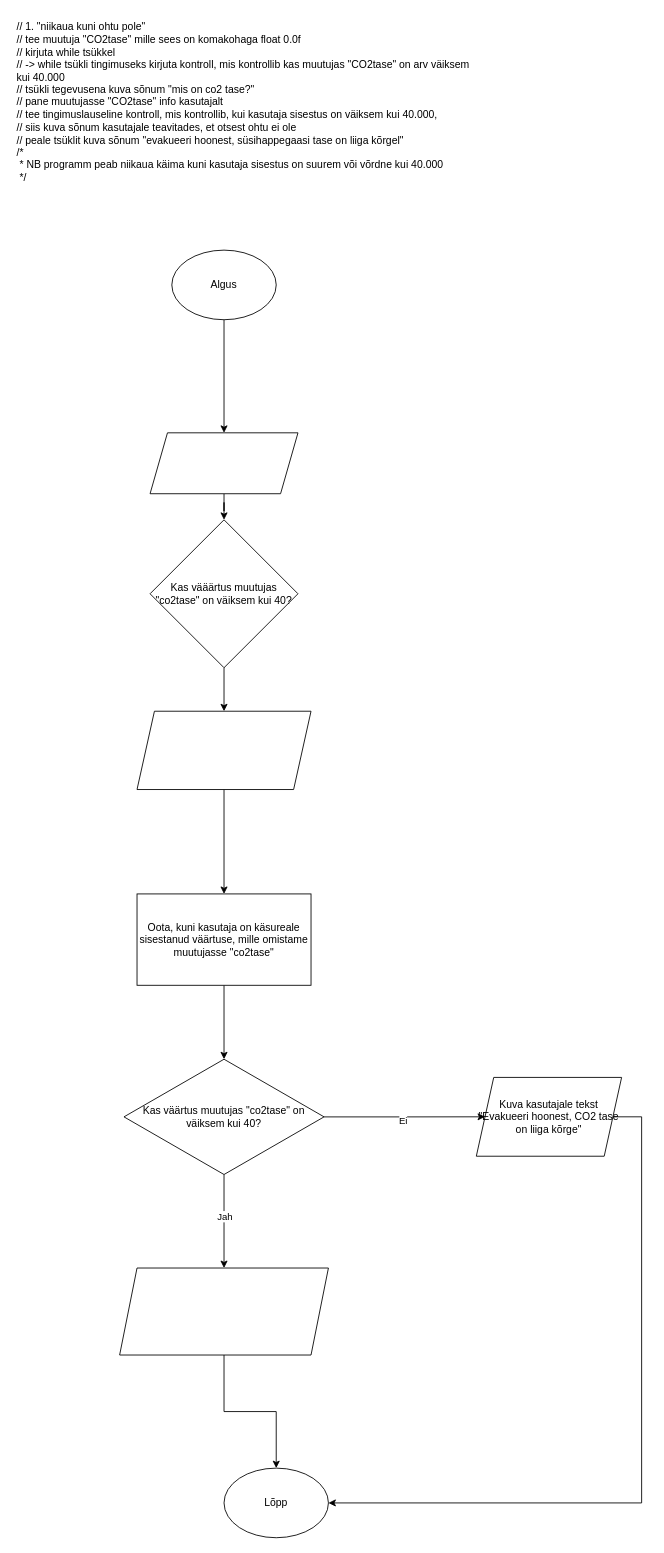
The diagram is 664 pixels wide and 1553 high, and some of its shapes have lost their labels. Here are the shapes that lost their labels. From the top down, the box of each, then its label:
(149, 432, 298, 494): Tekita komakohaga muutuja nimega CO2tase millele omistame algväärtuseks 0.0f
(136, 710, 311, 790): Kuva kasutajale tekst "Mis on co2 tase?"
(119, 1267, 328, 1355): Kuva kasutajale tekst "Otsest ohtu pole"
